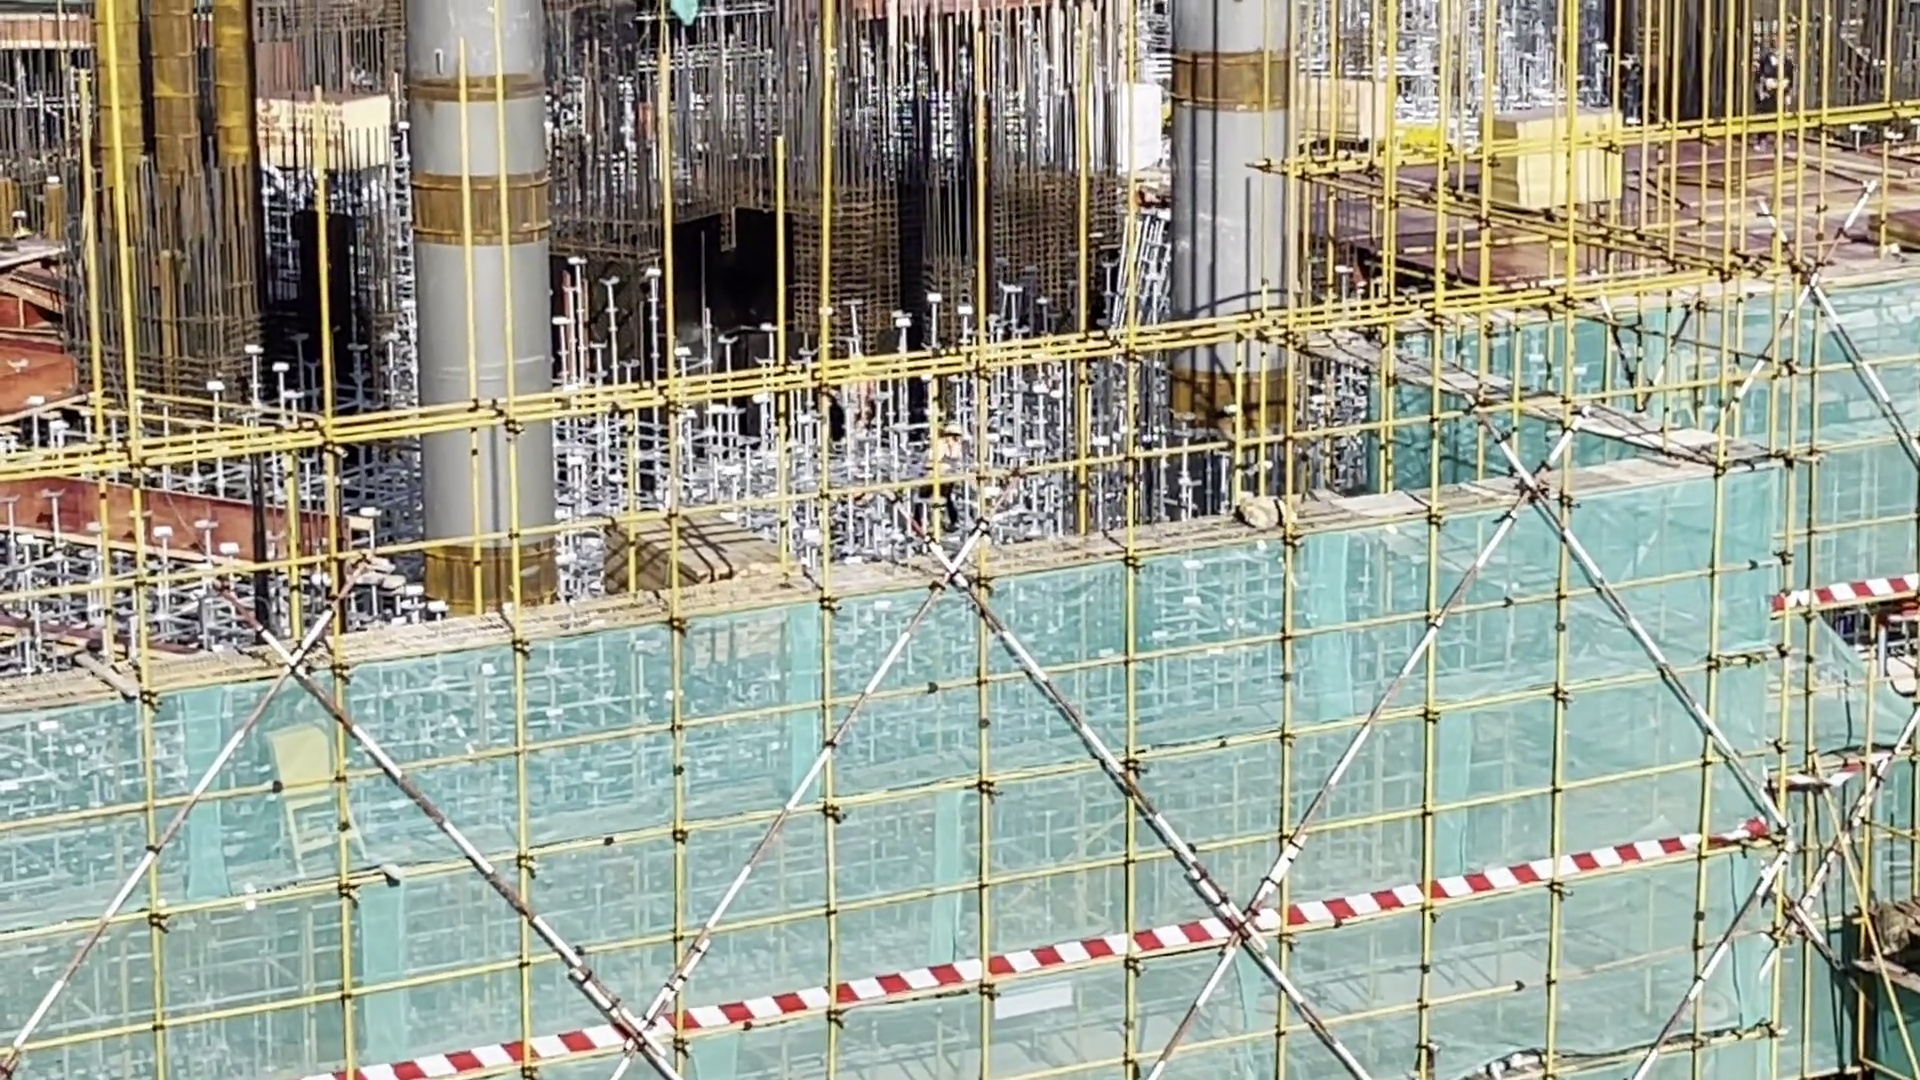ebox: (255, 717, 380, 878)
person: (1745, 43, 1796, 125)
